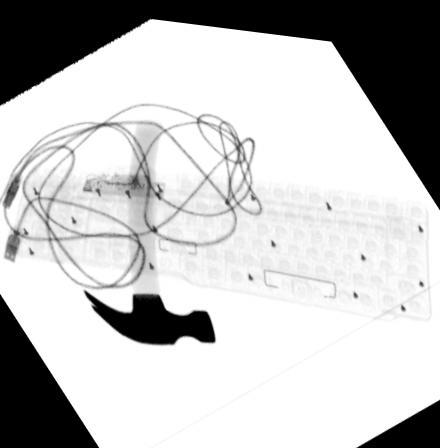Hammer: (82, 121, 216, 340)
